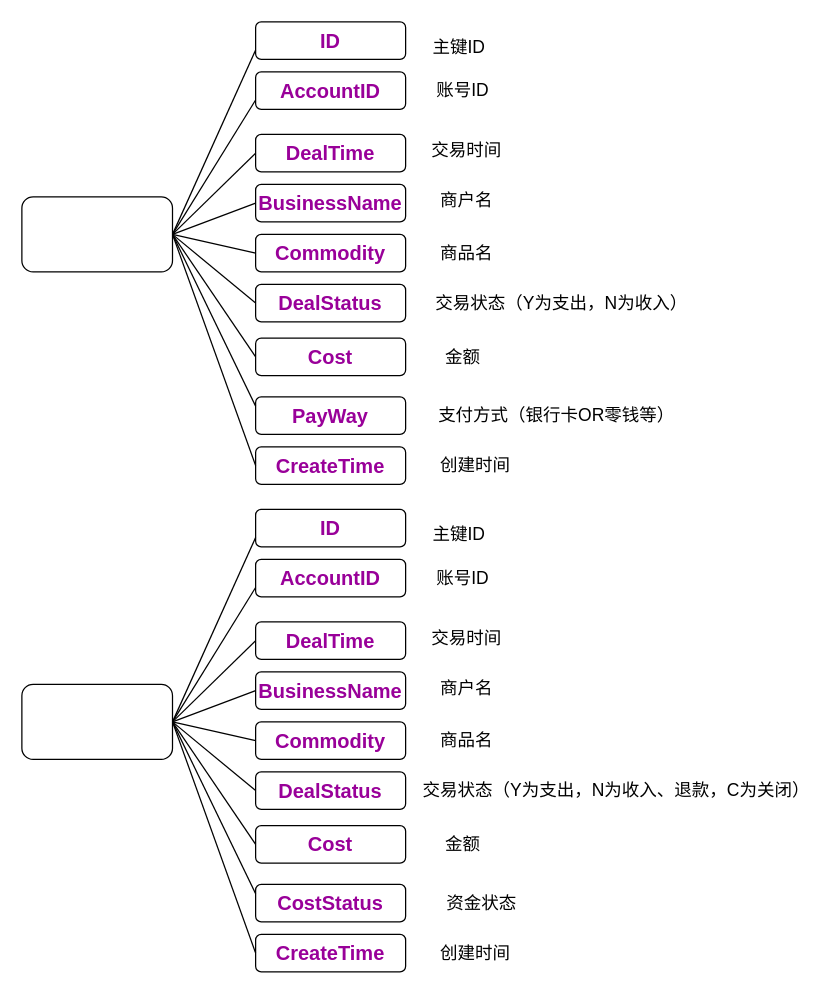
This 831x994 diagram has some shape labels left out. Here are the shapes that lost their labels. From the top down, the box of each, then its label:
(21, 196, 172, 272): WeChat
(21, 683, 172, 759): AliPay
